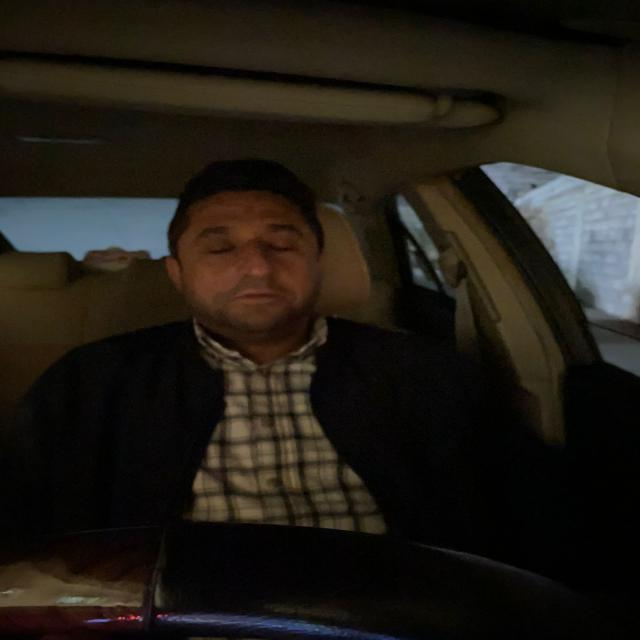drowsy: (158, 148, 340, 353)
